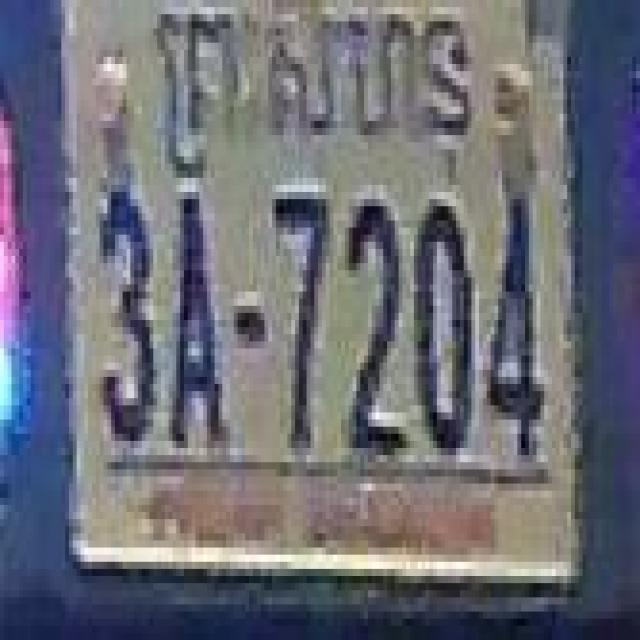Preah_Sihanouk: (153, 7, 470, 194)
